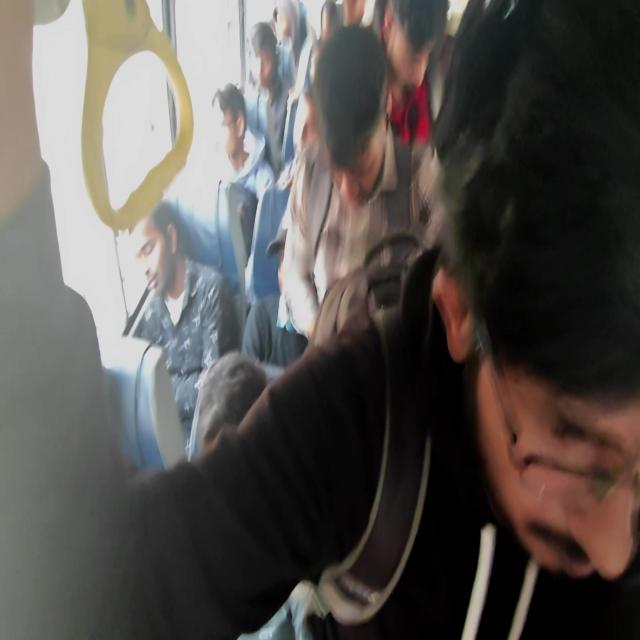person: (477, 333, 637, 580), (186, 358, 291, 635), (314, 23, 396, 207), (126, 208, 189, 304), (260, 236, 314, 339), (383, 2, 444, 86), (206, 86, 254, 166), (290, 89, 318, 157), (252, 39, 278, 73), (371, 0, 390, 40)
